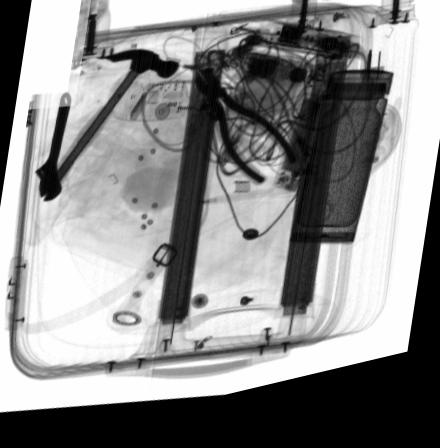Hammer: (37, 54, 180, 202)
Pliers: (195, 77, 295, 197)
Powerbank: (273, 107, 337, 206)
Wrench: (33, 94, 74, 204)
